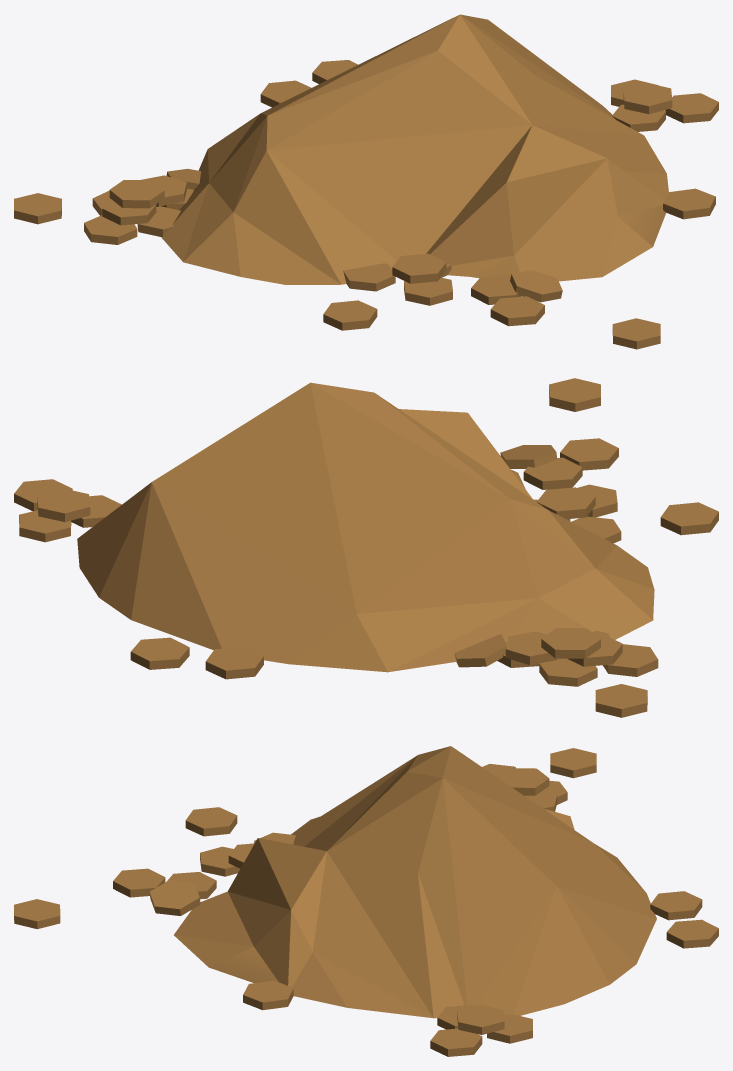
Rendered from SM_Prop_TreasurePile_01.glb.
The picture shows the model from 3 angles, top to bottom: view 1: azimuth 30°, elevation 25°; view 2: azimuth 150°, elevation 25°; view 3: azimuth 270°, elevation 25°; orthographic projection. The views are drawn at different scales.
Visible parts, largest first — view 1: SM_Prop_TreasurePile_01; view 2: SM_Prop_TreasurePile_01; view 3: SM_Prop_TreasurePile_01.
Boxes of the visible parts, left/top/right/bottom form: SM_Prop_TreasurePile_01: left=14, top=14, right=718, bottom=349; SM_Prop_TreasurePile_01: left=14, top=378, right=718, bottom=717; SM_Prop_TreasurePile_01: left=14, top=746, right=718, bottom=1056.
Bounding box in the file's own units: 0.0114 × 0.00277 × 0.0112.
